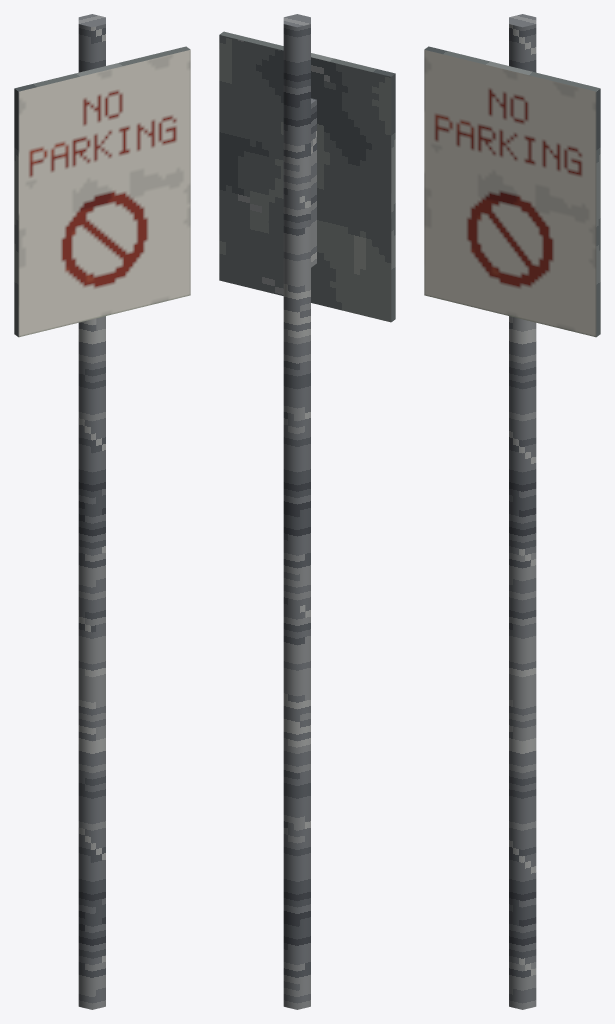
File: SP_Sign_NoParking.obj
3 renders of one model, left to right at view 1: azimuth 30°, elevation 25°; view 2: azimuth 150°, elevation 25°; view 3: azimuth 330°, elevation 25°, orthographic.
Visible parts, largest first — view 1: SP_Sign_NoParking_Mesh_M_Town_SignAtlas, SP_Sign_NoParking_Mesh_M_Furn_MetalBrushed, SP_Sign_NoParking_Mesh_M_Com_SignageBacking; view 2: SP_Sign_NoParking_Mesh_M_Com_SignageBacking, SP_Sign_NoParking_Mesh_M_Furn_MetalBrushed; view 3: SP_Sign_NoParking_Mesh_M_Town_SignAtlas, SP_Sign_NoParking_Mesh_M_Furn_MetalBrushed, SP_Sign_NoParking_Mesh_M_Com_SignageBacking.
Boxes of the visible parts, x1,y1,x2,y2 form: SP_Sign_NoParking_Mesh_M_Town_SignAtlas: (18, 50, 190, 337); SP_Sign_NoParking_Mesh_M_Furn_MetalBrushed: (78, 14, 105, 1009); SP_Sign_NoParking_Mesh_M_Com_SignageBacking: (14, 46, 190, 336); SP_Sign_NoParking_Mesh_M_Com_SignageBacking: (219, 31, 395, 322); SP_Sign_NoParking_Mesh_M_Furn_MetalBrushed: (283, 14, 316, 1009); SP_Sign_NoParking_Mesh_M_Town_SignAtlas: (424, 50, 596, 337); SP_Sign_NoParking_Mesh_M_Furn_MetalBrushed: (509, 14, 536, 1009); SP_Sign_NoParking_Mesh_M_Com_SignageBacking: (424, 46, 600, 336).
Size of the model in its own units: 0.44 by 2.4 by 0.0853.
Materials: 3 (3 with a texture image).
